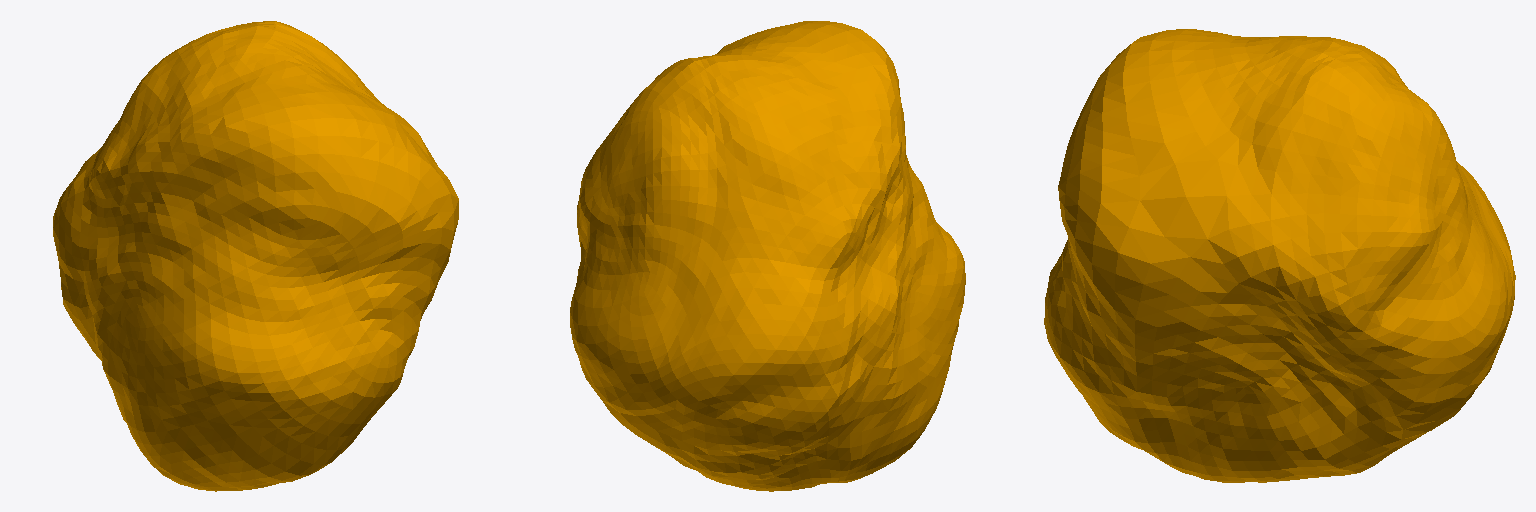
The robot description file, URDF, robot "rock":
<?xml version="1.0" ?>
<robot name="rock">
  <link name="rock">
    <inertial>
      <mass value="0.291"/>
      <origin rpy="0 0 0" xyz="0 0 0"/>
      <inertia ixx="0.000291" ixy="0" ixz="0" iyy="0.000291" iyz="0" izz="0.000291"/>
    </inertial>
    <collision name="rock_collision">
      <origin rpy="0 0 0" xyz="0 0 0"/>
      <geometry>
        <mesh filename="package://rocks/visual/114.dae" scale="1 1 1"/>
      </geometry>
    </collision>
    <visual name="rock_visual">
      <origin rpy="0 0 0" xyz="0 0 0"/>
      <geometry>
        <mesh filename="package://rocks/visual/114.dae" scale="1 1 1"/>
      </geometry>
    </visual>
  </link>
</robot>

--- Render facts (derived) ---
3 views of the same robot in one strip: view 1: azimuth 30°, elevation 25°; view 2: azimuth 150°, elevation 25°; view 3: azimuth 270°, elevation 25° (orthographic).
Model rock with 1 links and 0 joints (none), rooted at rock, posed every joint at zero.
Visible links, largest first — view 1: rock; view 2: rock; view 3: rock.
Link boxes in pixels (x1=…): rock: x1=53, y1=21, x2=458, y2=491; rock: x1=570, y1=21, x2=965, y2=491; rock: x1=1044, y1=29, x2=1515, y2=482.
Size in the robot's own frame: 0.063 by 0.0789 by 0.0833 metres.
1 mesh visuals loaded from 1 distinct referenced files (1 Collada DAE).